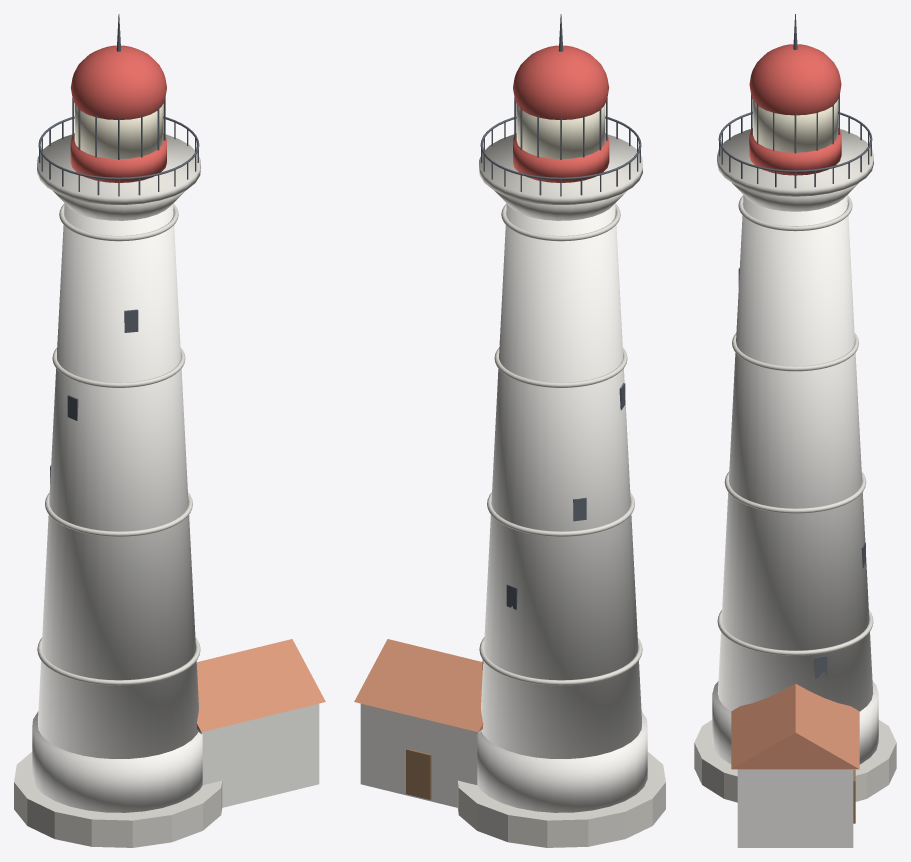
Rendered from Faro_PuntaDelEste_v2.fbx.
The picture shows the model from 3 angles, left to right: view 1: azimuth 30°, elevation 25°; view 2: azimuth 150°, elevation 25°; view 3: azimuth 270°, elevation 25°; orthographic projection. The views are drawn at different scales.
Visible parts, largest first — view 1: Cone, Cylinder.001, Cube.005, Cylinder, KeeperRoof, Sphere, Cylinder.002, Faro_LanternGlass, Cylinder.027, Cone.001, Torus, Torus.001 (+3 smaller); view 2: Cone, Cylinder.001, Cylinder, KeeperRoof, Cube.005, Sphere, Cylinder.002, Faro_LanternGlass, Cylinder.027, Cone.001, Cube.006, Torus (+4 smaller); view 3: Cone, KeeperRoof, Cube.005, Sphere, Cylinder.002, Cylinder, Faro_LanternGlass, Cylinder.001, Cylinder.027, Cone.001, Torus, Torus.001 (+3 smaller).
Boxes of the visible parts, x1,y1,x2,y2 form: Cone: [37, 203, 198, 758]; Cylinder.001: [32, 711, 202, 812]; Cube.005: [198, 703, 319, 807]; Cylinder: [14, 751, 222, 847]; KeeperRoof: [196, 639, 325, 732]; Sphere: [70, 45, 166, 119]; Cylinder.002: [37, 134, 200, 204]; Faro_LanternGlass: [74, 104, 163, 158]; Cylinder.027: [70, 133, 166, 182]; Cone.001: [53, 191, 184, 220]; Torus: [37, 637, 200, 685]; Torus.001: [45, 492, 192, 536]; Cone: [481, 203, 642, 758]; Cylinder.001: [477, 711, 647, 812]; Cylinder: [457, 751, 665, 847]; KeeperRoof: [354, 639, 483, 732]; Cube.005: [360, 703, 481, 807]; Sphere: [513, 45, 609, 119]; Cylinder.002: [479, 134, 642, 204]; Faro_LanternGlass: [516, 104, 605, 158]; Cylinder.027: [513, 133, 609, 182]; Cone.001: [495, 191, 626, 220]; Cube.006: [406, 748, 431, 799]; Torus: [479, 637, 642, 685]; Cone: [717, 195, 873, 711]; KeeperRoof: [731, 683, 859, 769]; Cube.005: [737, 769, 853, 847]; Sphere: [749, 44, 841, 115]; Cylinder.002: [717, 129, 873, 196]; Cylinder: [694, 720, 896, 802]; Faro_LanternGlass: [753, 100, 837, 152]; Cylinder.001: [712, 681, 878, 764]; Cylinder.027: [749, 128, 841, 175]; Cone.001: [732, 183, 858, 211]; Torus: [717, 610, 873, 655]; Torus.001: [724, 471, 866, 513].
Size of the model in its own units: 16.2 by 46.1 by 11.2.
